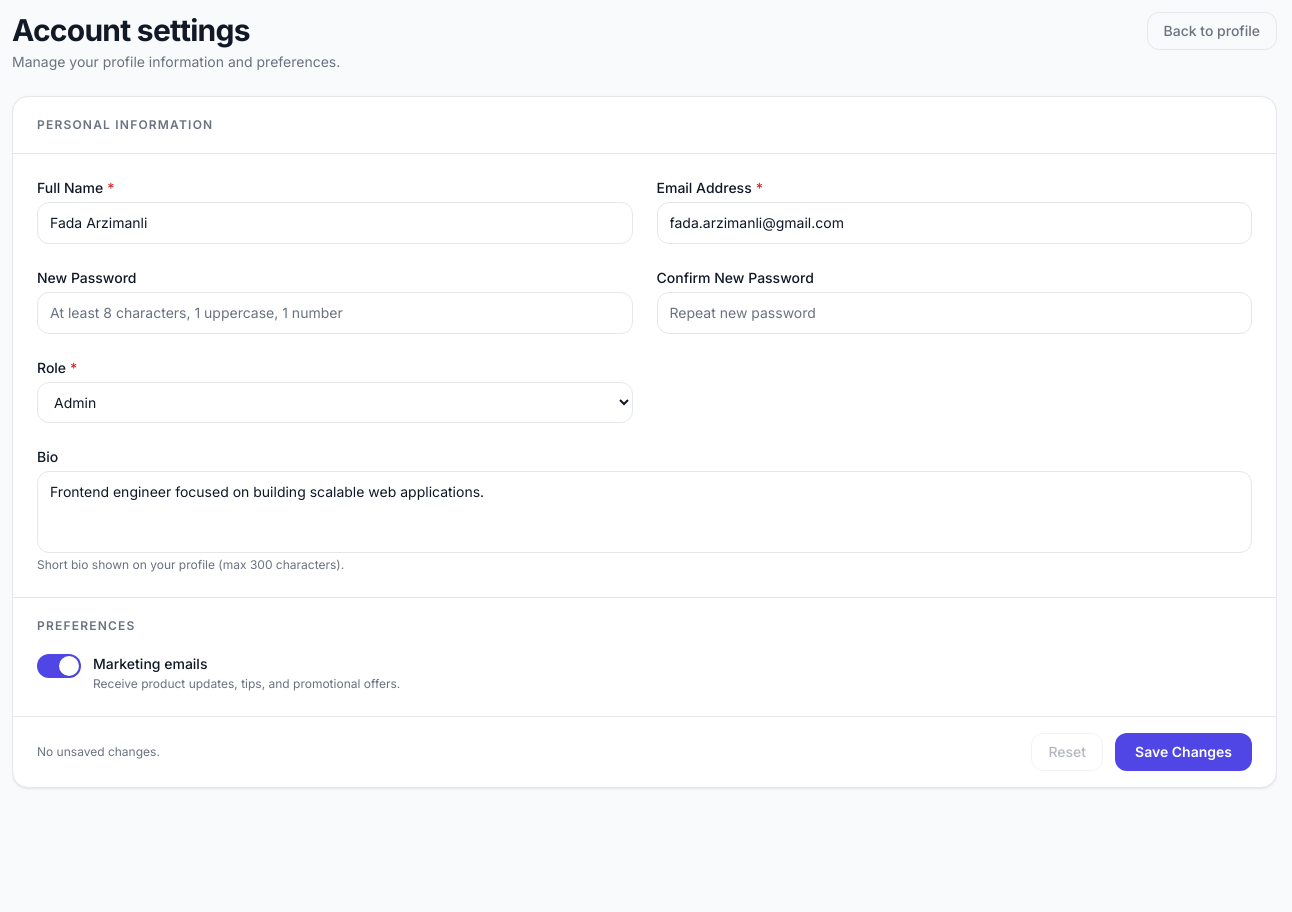
Scenario: SettingsPage › server validation errors › maps a server email conflict error onto the email form field
Replace the text in the field labelled "Email Address*" with "taken@example.com": (954, 223) left=656, top=202, right=1252, bottom=244
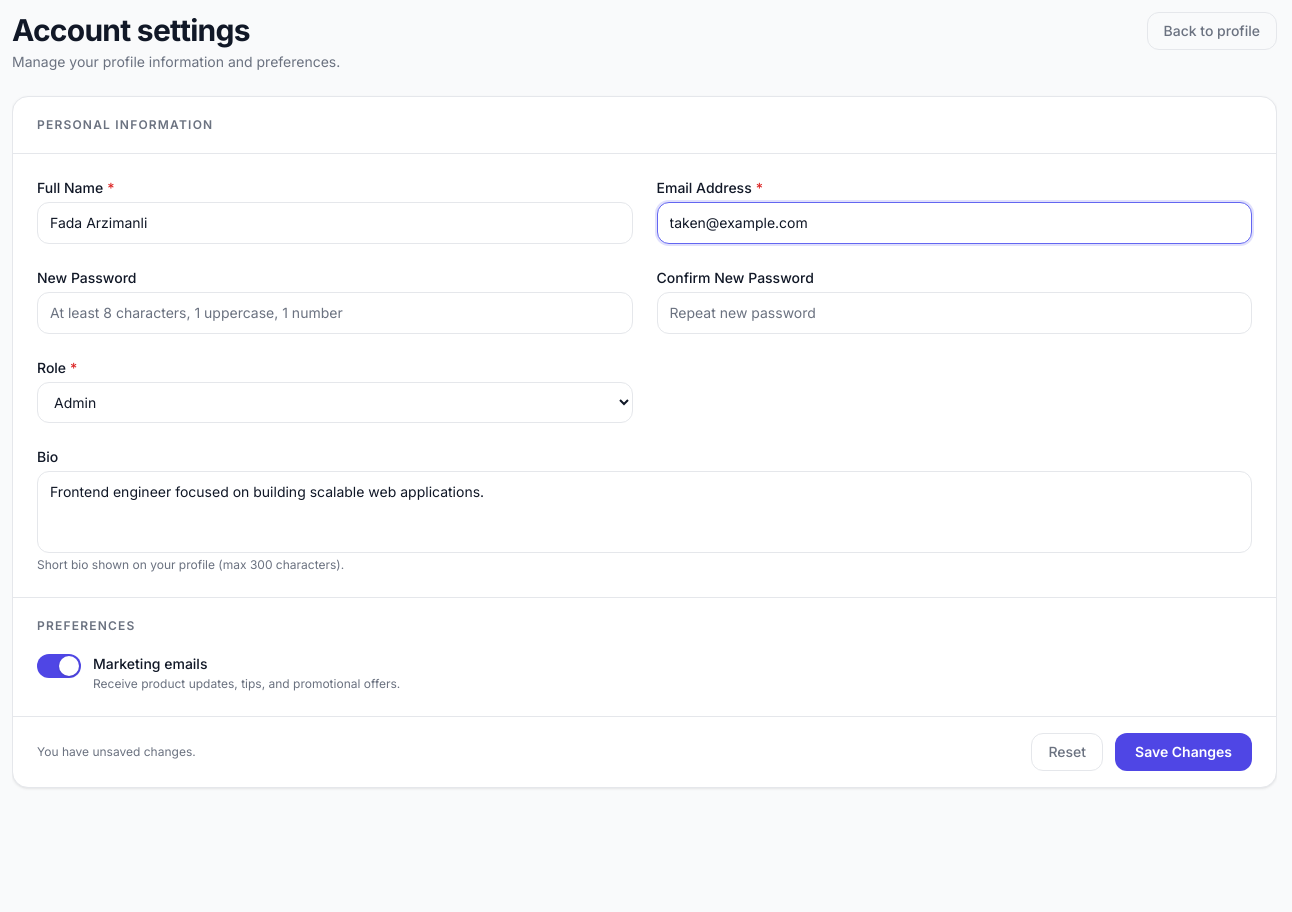
Click the button "Save Changes": (1184, 752) left=1115, top=733, right=1252, bottom=771
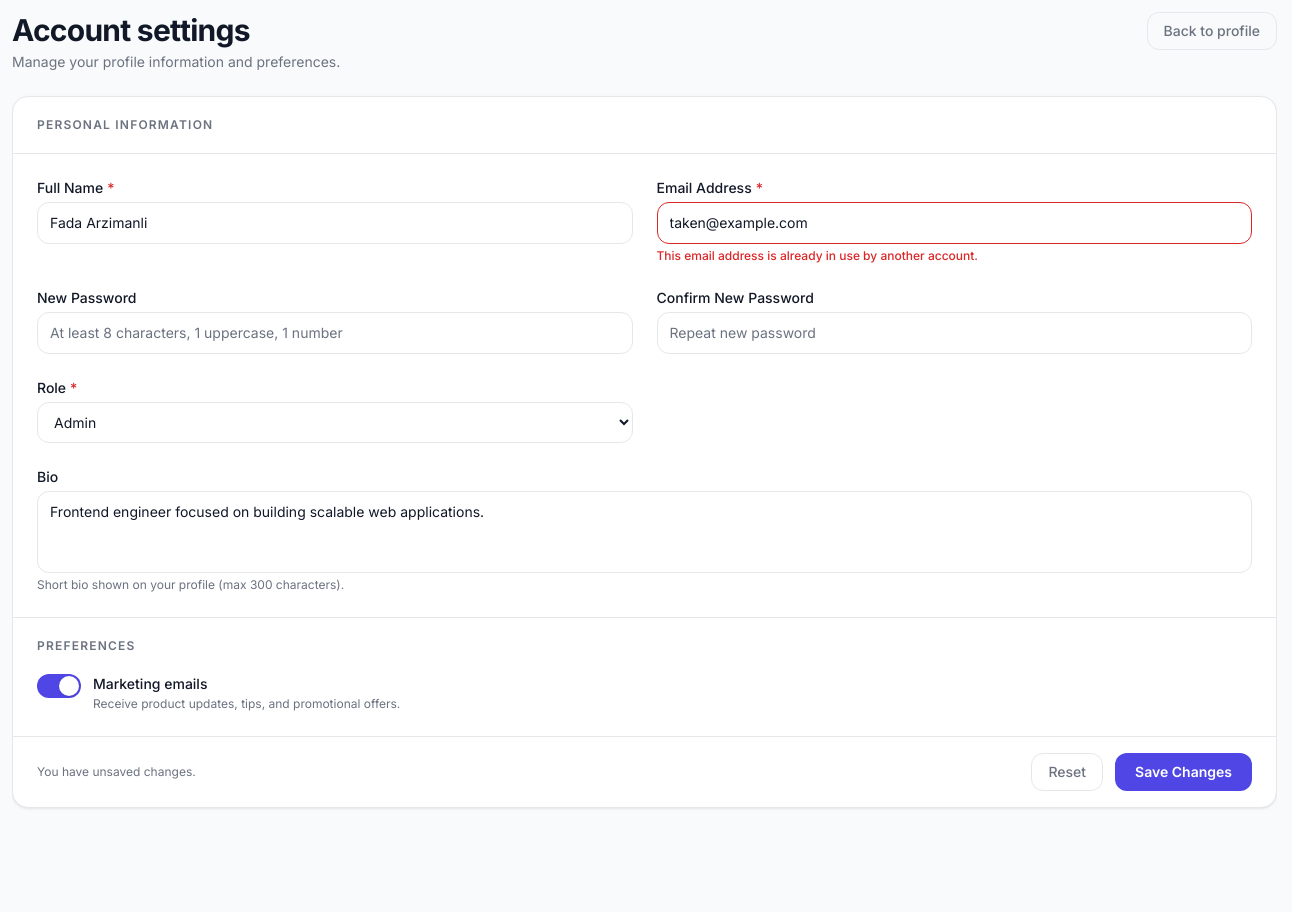
Expected: the text "This email address is already in use by another account." is shown, left=656, top=248, right=978, bottom=263
